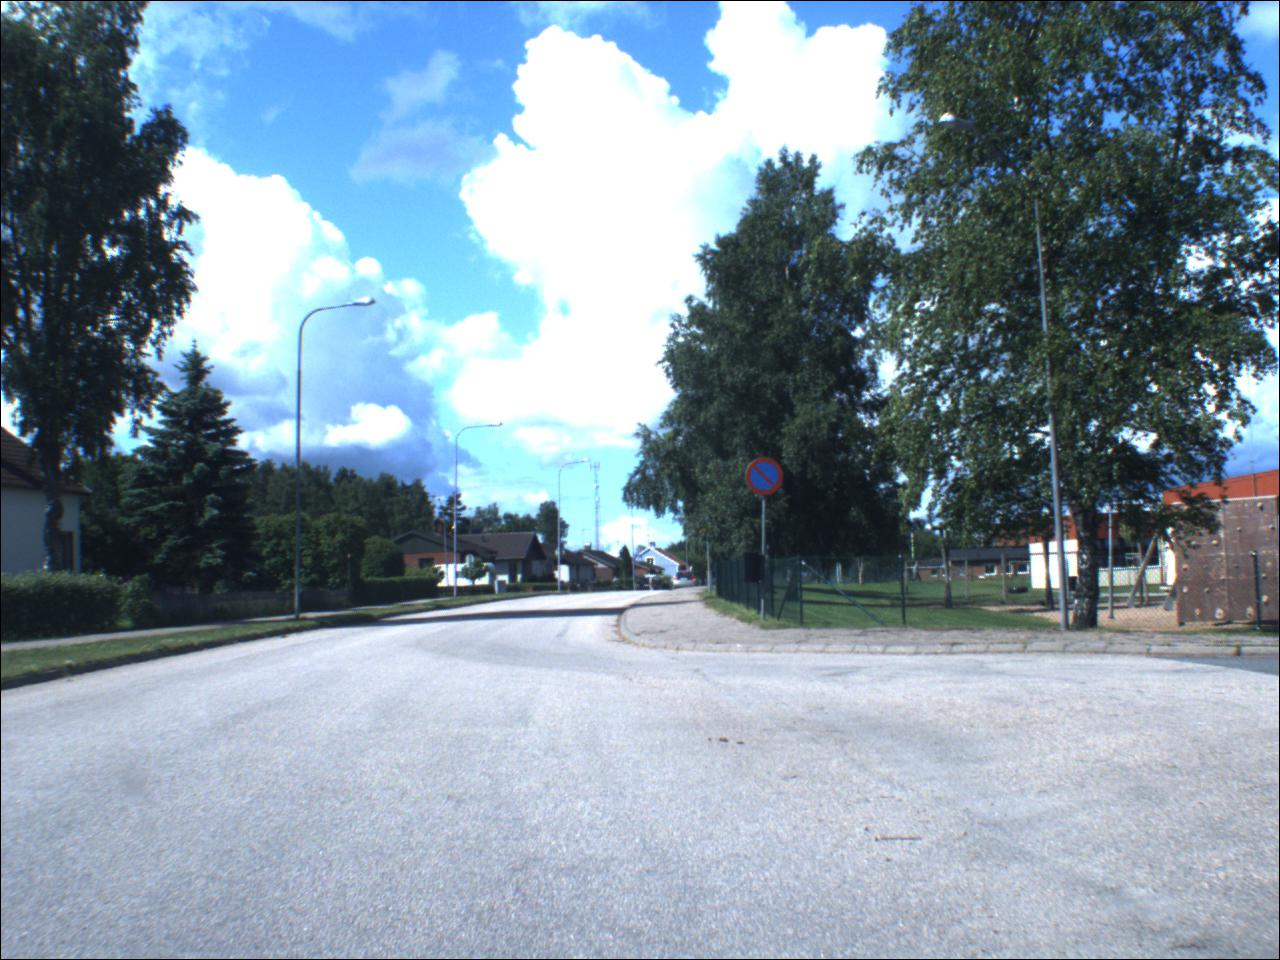NO_PARKING: (745, 458, 787, 499)
